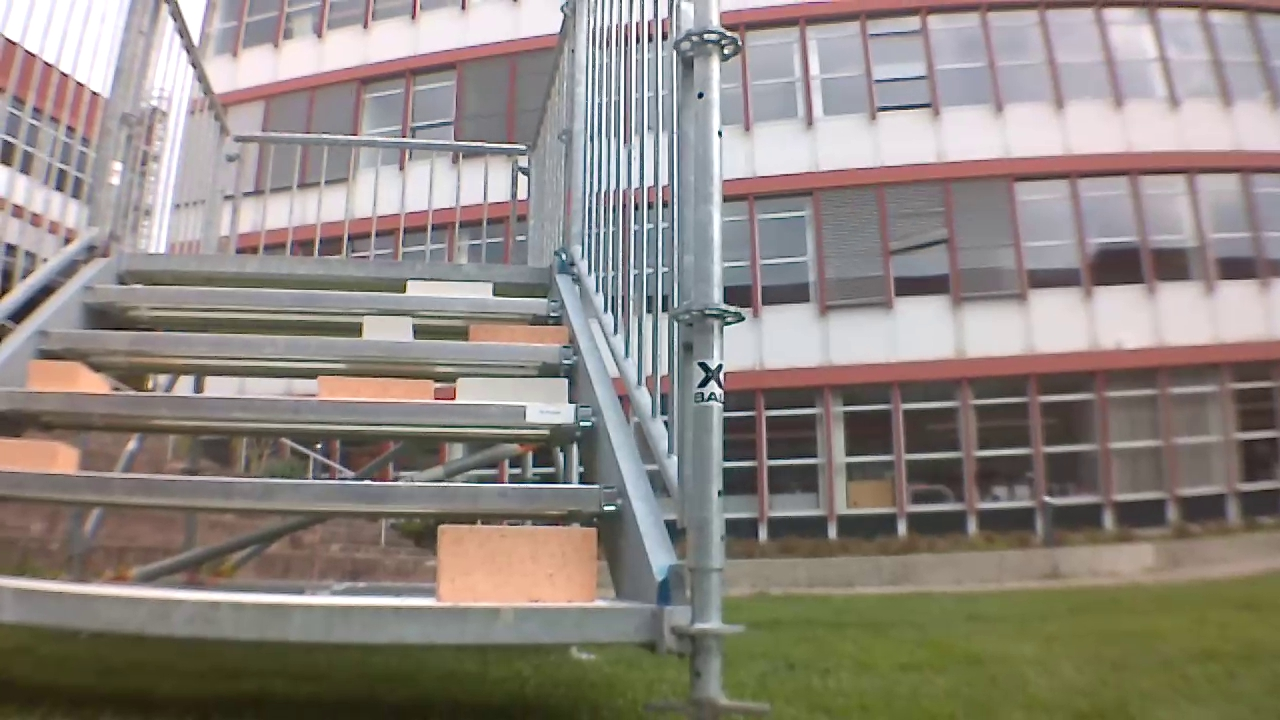brick: (431, 519, 603, 602), (0, 435, 86, 473), (16, 358, 108, 390), (447, 380, 572, 403), (313, 379, 441, 397), (464, 323, 565, 344), (405, 277, 492, 294), (360, 317, 413, 339)
edge: (0, 390, 594, 435), (0, 481, 621, 514), (0, 601, 669, 630), (88, 284, 557, 323), (118, 244, 549, 285), (30, 340, 580, 367)
stairs: (0, 0, 716, 712)
steps: (0, 254, 676, 645)
